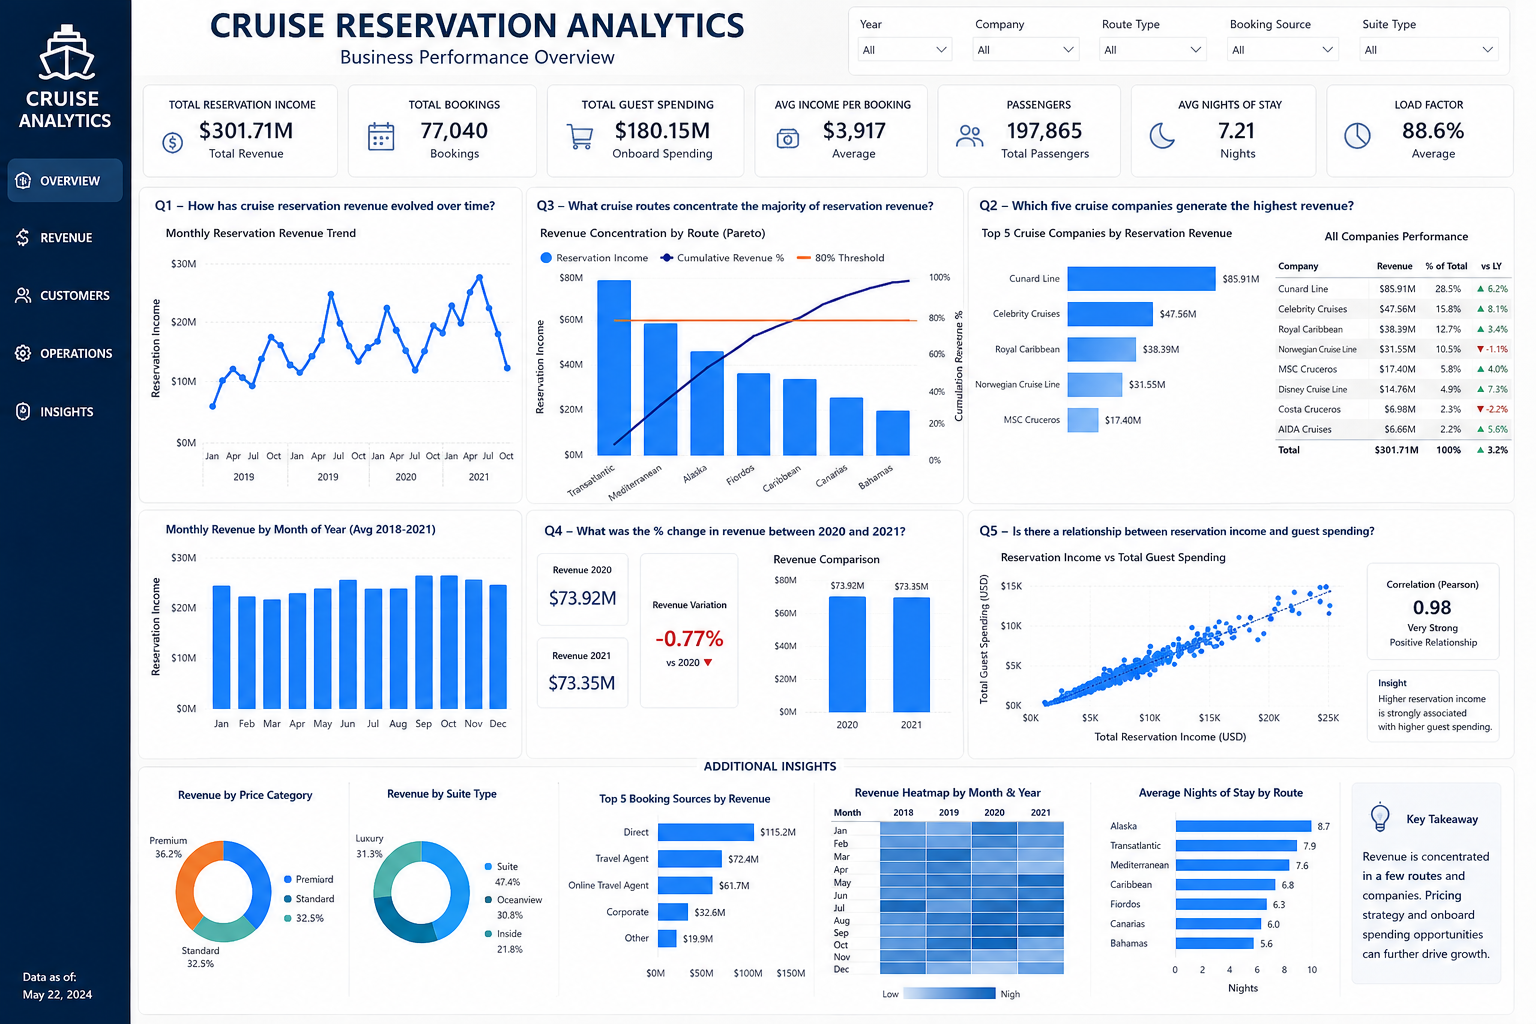

The dashboard page shown, as its layout file describes it:
{"tool":"powerbi","page":{"name":"Dashboard","canvas":[3000,2500],"ordinal":1},"visuals":[{"type":"shape","box":[0,0,270,2415],"z":0},{"type":"card","title":"Last update:","fields":{"Values":["Medidas.time"]},"box":[20,2285,250,110],"z":1000},{"type":"lineChart","title":"Annual Reservation Revenue Trend (Total Reservation Income por Año)","fields":{"Category":["calendario.Año"],"Y":["Medidas.Total Reservation Income"]},"box":[288,346,870,254],"z":2000},{"type":"slicer","fields":{"Values":["calendario.Año"]},"box":[1096,28,238,92],"z":3000},{"type":"clusteredBarChart","fields":{"Category":["calendario.Mes_Name"],"Y":["Medidas.Ingreso Promedio por Mes"]},"box":[1375,1912.5,732.5,547.5],"z":4000},{"type":"textbox","box":[288,284,632,42],"z":5000},{"type":"textbox","box":[1377.5,1872.5,486,40],"z":6000},{"type":"textbox","box":[1178,290,704,32],"z":7000},{"type":"clusteredBarChart","fields":{"Category":["public ships_dim.company"],"Y":["Medidas.top5"]},"box":[1216,328,704,380],"z":8000},{"type":"lineClusteredColumnComboChart","title":"Reservation Revenue Concentration By Cruise Route (Pareto))","fields":{"Category":["public ships_dim.route_type"],"Y":["Medidas.Total Reservation Income"],"Y2":["Medidas.Cumulative Revenue %","Medidas.80% Target"]},"box":[1998,348,757.5,410],"z":10000},{"type":"textbox","box":[1974,290,852,38],"z":11000},{"type":"pivotTable","title":"Quarter over Quarter Revenue Change","fields":{"Rows":["calendario.AñoTrimestre"],"Values":["Medidas.Total Reservation Income","Medidas.Variación QoQ %"]},"box":[1035,825,416,410],"z":12000},{"type":"clusteredColumnChart","title":"Quarterly Reservation Revenue","fields":{"Category":["calendario.AñoTrimestre"],"Y":["Medidas.Total Reservation Income"]},"box":[288,804,746,428],"z":13000},{"type":"textbox","box":[278,728,1022,50],"z":13001},{"type":"textbox","box":[497.5,760,642,46],"z":13002},{"type":"scatterChart","title":"Guest Satisfaction vs Avarage daily Onboard Spending","fields":{"Category":["public bookings_fact.satisfaction_range"],"X":["Sum(public bookings_fact.satisfaction_range)"],"Y":["Medidas.Gasto Diario Promedio"]},"box":[1530,857.5,1375,375],"z":13003},{"type":"textbox","box":[1505,792.5,987.5,62.5],"z":13004},{"type":"textbox","box":[288,0,690,92],"z":13005},{"type":"slicer","fields":{"Values":["public ships_dim.company"]},"box":[1382,28,238,92],"z":13006},{"type":"slicer","fields":{"Values":["public ships_dim.route_type"]},"box":[1644,28,238,92],"z":13007},{"type":"slicer","fields":{"Values":["public suites_dim.suite_type"]},"box":[1920,28,238,92],"z":13008},{"type":"card","title":"TOTAL RESERVATION INCOME","fields":{"Values":["Medidas.Total Reservation Income"]},"box":[298,116,362,146],"z":13009},{"type":"card","title":"TOTAL BOOKINGS","fields":{"Values":["Medidas.Total Bookings"]},"box":[744,120,322,142],"z":13010},{"type":"card","title":"TOTAL GUEST SPENDING","fields":{"Values":["Medidas.Total Guest Spending"]},"box":[1158,120,322,142],"z":13011},{"type":"card","title":"AVERAGE INCOME PER BOOKING","fields":{"Values":["Medidas.Average Income per Booking"]},"box":[1578,120,322,142],"z":13012},{"type":"card","title":"AVERAGE NIGHTS OF STAY","fields":{"Values":["Medidas.Average Nights"]},"box":[2078,120,322,142],"z":13013},{"type":"card","title":"AVERAGE OCCUPANCY","fields":{"Values":["Medidas.Average Occupancy"]},"box":[2456,120,322,142],"z":13014},{"type":"donutChart","title":"Reservation Revenue by Price Category","fields":{"Category":["public bookings_fact.price_category"],"Y":["Medidas.Total Reservation Income"]},"box":[297.5,1422.5,606,398],"z":13015},{"type":"textbox","box":[287.5,1355,690,67.5],"z":13016},{"type":"pieChart","title":"Reservation Revenue By Suite Type","fields":{"Category":["public suites_dim.suite_type"],"Y":["Medidas.Total Reservation Income"]},"box":[957.5,1422.5,668,398],"z":13017},{"type":"donutChart","title":" Reservation Revenue  By Booking Source","fields":{"Category":["public booking_sources_dim.booking_source"],"Y":["Medidas.Total Reservation Income"]},"box":[1682.5,1422.5,632,450],"z":13018},{"type":"pivotTable","title":"Monthly Revenue Seasonality (2018-2022)","fields":{"Columns":["calendario.Año"],"Rows":["calendario.Mes"],"Values":["Medidas.Total Reservation Income"]},"box":[2350,1422.5,555,327.5],"z":13019},{"type":"clusteredColumnChart","title":"Average Nights of Stay per Route Type","fields":{"Category":["public ships_dim.route_type"],"Y":["Medidas.Average Nights"]},"box":[2185,1912.5,642.5,502.5],"z":13020},{"type":"filledMap","title":"Guest Market Distribution By Country","fields":{"Category":["public countries_dim.guest_country"],"X":["Medidas.Total Reservation Income"]},"box":[307.5,1872.5,986,542],"z":13021},{"type":"textbox","box":[762.5,1307.5,1375,52.5],"z":13022},{"type":"textbox","box":[0,200,270,90],"z":13023}]}

Visuals, with their boxes on the page's 3000x2500 design canvas (x1, y1, x2, y2). These are canvas units, not pixel positions in the 1536x1024 screenshot, which may show the page scaled, cropped or inside an application window:
shape: x1=0 y1=0 x2=270 y2=2415
"Last update:" card: x1=20 y1=2285 x2=270 y2=2395
"Annual Reservation Revenue Trend (Total Reservation Income por Año)" lineChart: x1=288 y1=346 x2=1158 y2=600
slicer - calendario.Año: x1=1096 y1=28 x2=1334 y2=120
clusteredBarChart - calendario.Mes_Name x Medidas.Ingreso Promedio por Mes: x1=1375 y1=1912 x2=2108 y2=2460
textbox: x1=288 y1=284 x2=920 y2=326
textbox: x1=1378 y1=1872 x2=1864 y2=1912
textbox: x1=1178 y1=290 x2=1882 y2=322
clusteredBarChart - public ships_dim.company x Medidas.top5: x1=1216 y1=328 x2=1920 y2=708
"Reservation Revenue Concentration By Cruise Route (Pareto))" lineClusteredColumnComboChart: x1=1998 y1=348 x2=2756 y2=758
textbox: x1=1974 y1=290 x2=2826 y2=328
"Quarter over Quarter Revenue Change" pivotTable: x1=1035 y1=825 x2=1451 y2=1235
"Quarterly Reservation Revenue" clusteredColumnChart: x1=288 y1=804 x2=1034 y2=1232
textbox: x1=278 y1=728 x2=1300 y2=778
textbox: x1=498 y1=760 x2=1140 y2=806
"Guest Satisfaction vs Avarage daily Onboard Spending" scatterChart: x1=1530 y1=858 x2=2905 y2=1232
textbox: x1=1505 y1=792 x2=2492 y2=855
textbox: x1=288 y1=0 x2=978 y2=92
slicer - public ships_dim.company: x1=1382 y1=28 x2=1620 y2=120
slicer - public ships_dim.route_type: x1=1644 y1=28 x2=1882 y2=120
slicer - public suites_dim.suite_type: x1=1920 y1=28 x2=2158 y2=120
"TOTAL RESERVATION INCOME" card: x1=298 y1=116 x2=660 y2=262
"TOTAL BOOKINGS" card: x1=744 y1=120 x2=1066 y2=262
"TOTAL GUEST SPENDING" card: x1=1158 y1=120 x2=1480 y2=262
"AVERAGE INCOME PER BOOKING" card: x1=1578 y1=120 x2=1900 y2=262
"AVERAGE NIGHTS OF STAY" card: x1=2078 y1=120 x2=2400 y2=262
"AVERAGE OCCUPANCY" card: x1=2456 y1=120 x2=2778 y2=262
"Reservation Revenue by Price Category" donutChart: x1=298 y1=1422 x2=904 y2=1820
textbox: x1=288 y1=1355 x2=978 y2=1422
"Reservation Revenue By Suite Type" pieChart: x1=958 y1=1422 x2=1626 y2=1820
" Reservation Revenue  By Booking Source" donutChart: x1=1682 y1=1422 x2=2314 y2=1872
"Monthly Revenue Seasonality (2018-2022)" pivotTable: x1=2350 y1=1422 x2=2905 y2=1750
"Average Nights of Stay per Route Type" clusteredColumnChart: x1=2185 y1=1912 x2=2828 y2=2415
"Guest Market Distribution By Country" filledMap: x1=308 y1=1872 x2=1294 y2=2414
textbox: x1=762 y1=1308 x2=2138 y2=1360
textbox: x1=0 y1=200 x2=270 y2=290
